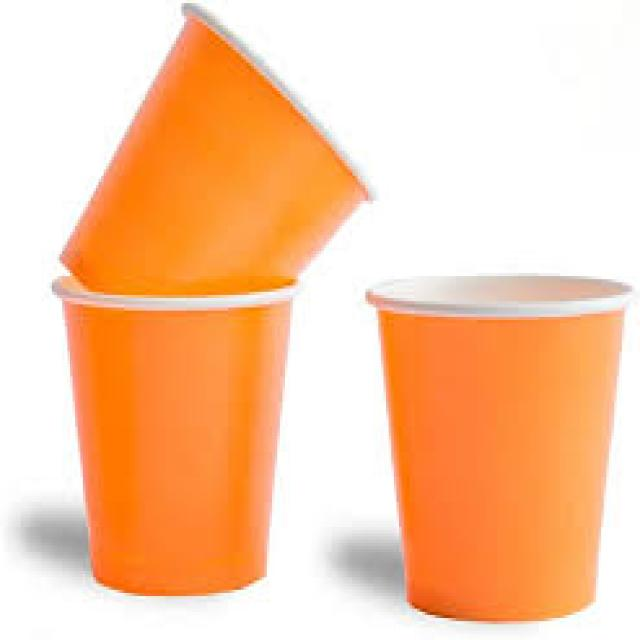PaperCardboard: (58, 0, 379, 596), (368, 275, 635, 619)
